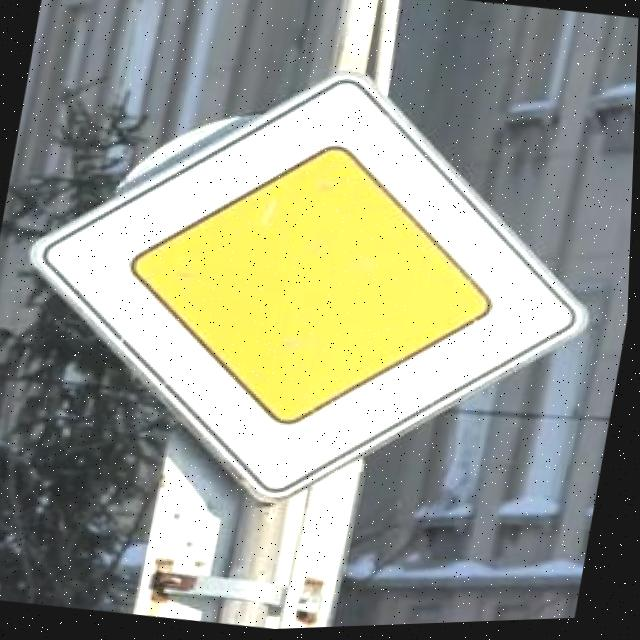signs: (0, 22, 637, 552)
